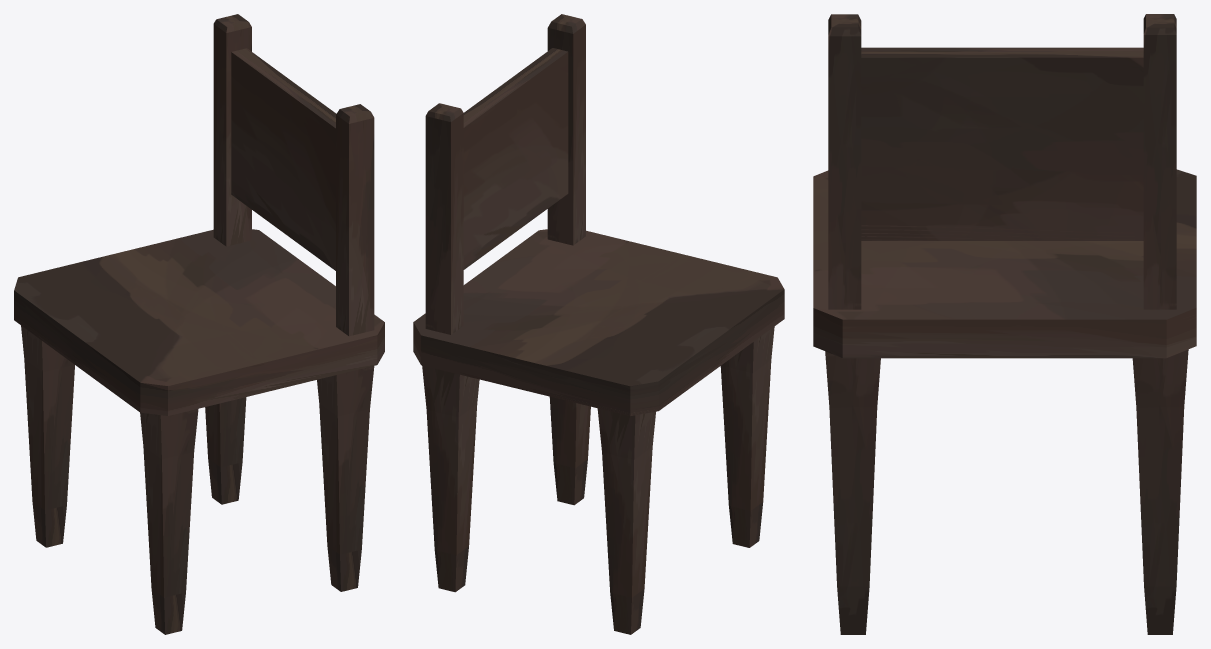
Rendered from M-Chair (2).fbx.
3 views of the same model, side by side, from view 1: azimuth 30°, elevation 25°; view 2: azimuth 150°, elevation 25°; view 3: azimuth 270°, elevation 25° (orthographic). The views are drawn at different scales.
Parts seen in each view (by area): view 1: Cube.005; view 2: Cube.005; view 3: Cube.005.
Boxes of the visible parts, box(x1,y1,x2,y2) form: Cube.005: box(14, 14, 384, 634); Cube.005: box(413, 14, 784, 634); Cube.005: box(813, 14, 1196, 634).
Bounding box in the file's own units: 34.94 × 36.73 × 64.83.
1 material, 1 textured.
